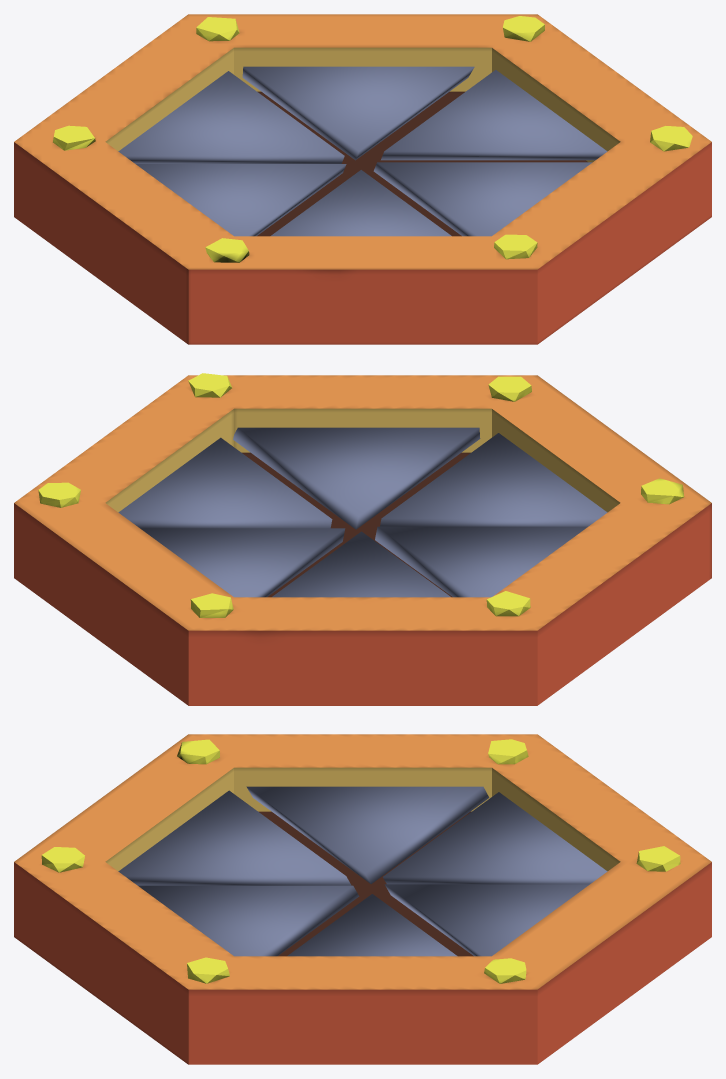
The model's file is Seedhole.fbx.
The picture shows the model from 3 angles, top to bottom: view 1: azimuth 30°, elevation 25°; view 2: azimuth 150°, elevation 25°; view 3: azimuth 270°, elevation 25°; orthographic projection.
Parts seen in each view (by area): view 1: Seed hole; view 2: Seed hole; view 3: Seed hole.
Part boxes in pixels (x1,y1,x2,y2): Seed hole: (14,14,711,344); Seed hole: (14,373,711,705); Seed hole: (14,734,711,1064).
Size of the model in its own units: 44.87 by 6.81 by 51.81.
